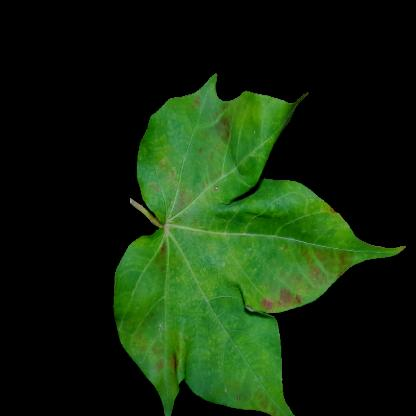curl_stage1: (146, 147, 208, 309), (218, 199, 329, 278), (191, 313, 273, 411), (133, 313, 189, 381), (217, 96, 265, 174), (211, 274, 307, 310), (156, 101, 212, 145), (330, 231, 367, 267)
